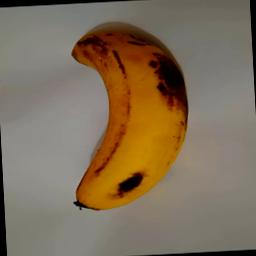Banana Unripe: (67, 26, 193, 213)
